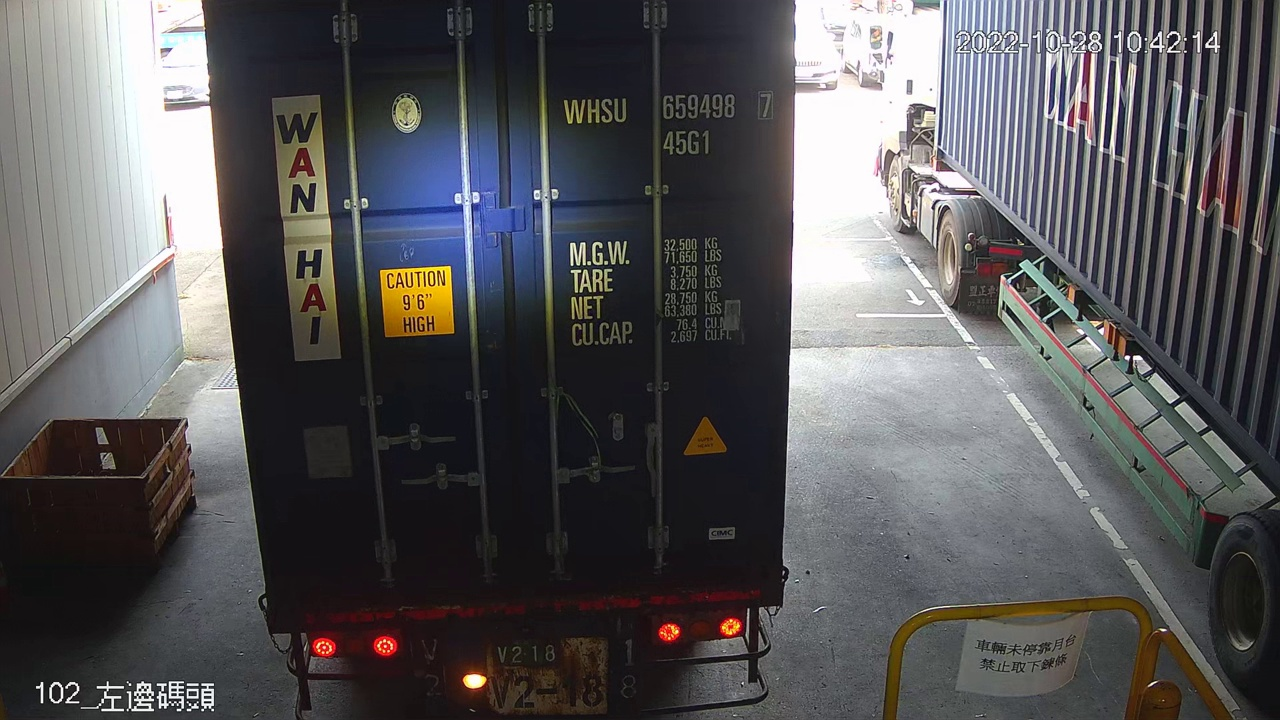container: (557, 84, 781, 163)
